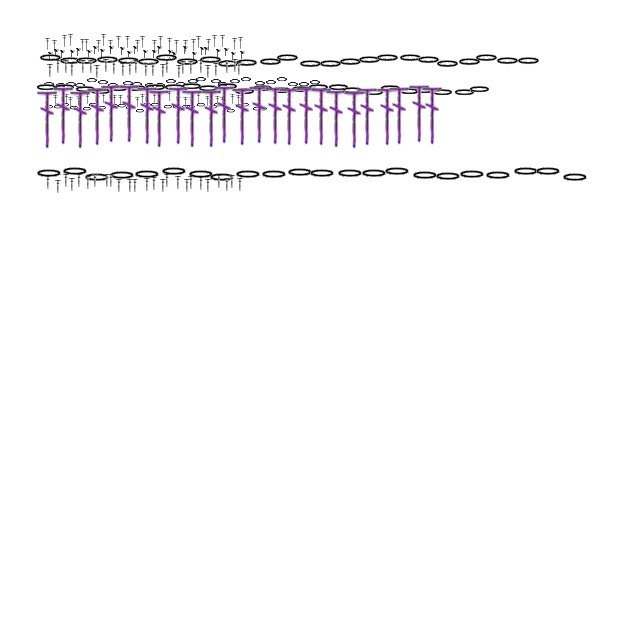chain: (35, 168, 63, 180), (61, 166, 89, 178), (83, 172, 111, 184), (108, 170, 136, 182), (160, 166, 188, 178), (208, 172, 236, 184), (308, 168, 336, 180), (336, 168, 364, 180), (360, 168, 388, 180), (383, 166, 411, 178), (411, 170, 439, 182), (484, 170, 512, 182), (512, 166, 540, 178), (534, 166, 562, 178), (561, 172, 589, 184), (133, 170, 161, 180), (187, 170, 215, 180), (234, 170, 262, 180), (260, 170, 288, 180), (286, 168, 314, 178), (434, 172, 462, 182), (458, 170, 486, 180), (38, 53, 64, 63), (58, 56, 84, 66), (74, 56, 100, 66), (116, 56, 142, 66), (136, 57, 162, 67), (154, 53, 180, 63), (198, 55, 224, 65), (216, 59, 242, 69), (234, 58, 260, 68), (258, 57, 284, 67), (298, 59, 324, 69), (318, 59, 344, 69), (338, 57, 364, 67), (398, 53, 424, 63), (416, 55, 442, 65), (474, 53, 500, 63), (516, 56, 542, 66), (96, 55, 120, 65), (176, 57, 200, 67), (276, 53, 300, 63), (358, 55, 382, 65), (376, 53, 400, 63), (436, 59, 460, 69), (458, 57, 482, 67), (496, 56, 520, 66), (180, 82, 204, 92), (216, 82, 240, 92), (270, 86, 294, 96), (362, 88, 386, 98), (108, 84, 130, 94), (126, 84, 148, 94), (198, 84, 220, 94), (252, 84, 274, 94), (342, 86, 364, 96), (380, 84, 402, 94), (414, 86, 436, 96), (432, 88, 454, 98), (454, 88, 476, 98), (74, 86, 98, 94), (144, 84, 168, 92), (290, 86, 314, 94), (398, 88, 422, 96), (468, 86, 492, 94), (36, 84, 58, 92), (54, 84, 76, 92), (90, 88, 112, 96), (164, 84, 186, 92), (234, 88, 256, 96), (308, 84, 330, 92), (328, 84, 350, 92), (43, 80, 55, 88), (55, 81, 67, 89), (65, 80, 77, 88), (74, 81, 86, 89), (86, 76, 98, 84), (97, 78, 109, 86), (107, 81, 119, 89), (122, 79, 134, 87), (131, 80, 143, 88), (144, 81, 156, 89), (154, 81, 166, 89), (165, 77, 177, 85), (175, 80, 187, 88), (187, 77, 199, 85), (195, 75, 207, 83), (210, 77, 222, 85), (217, 80, 229, 88), (229, 77, 241, 85), (240, 75, 252, 83), (254, 79, 266, 87), (265, 78, 277, 86), (276, 75, 288, 83), (287, 80, 299, 88), (298, 80, 310, 88), (309, 78, 321, 86), (69, 104, 79, 112), (97, 104, 107, 112), (109, 102, 119, 110), (117, 102, 127, 110), (125, 104, 135, 112), (235, 102, 245, 110), (44, 104, 54, 110), (53, 104, 63, 110), (60, 102, 70, 108), (82, 106, 92, 112), (88, 102, 98, 108), (135, 108, 145, 114), (142, 102, 152, 108), (150, 102, 160, 108), (163, 104, 173, 110), (172, 104, 182, 110), (181, 104, 191, 110), (186, 104, 196, 110), (196, 102, 206, 108), (208, 104, 218, 110), (213, 102, 223, 108), (226, 108, 236, 114), (240, 102, 250, 108), (252, 106, 262, 112), (258, 106, 268, 112)
double treble: (37, 88, 57, 150), (53, 84, 73, 146), (70, 88, 90, 150), (101, 82, 121, 144), (119, 82, 139, 144), (137, 84, 157, 146), (168, 84, 188, 146), (265, 84, 285, 146), (296, 84, 316, 146), (344, 88, 364, 150), (389, 84, 409, 146), (409, 82, 429, 144), (422, 84, 442, 146), (87, 86, 107, 146), (149, 88, 169, 148), (182, 88, 202, 148), (201, 88, 221, 148), (214, 84, 234, 144), (232, 86, 252, 146), (249, 84, 269, 144), (279, 86, 299, 146), (311, 86, 331, 146), (326, 88, 346, 148), (357, 86, 377, 146), (377, 86, 397, 146), (47, 64, 53, 78), (55, 60, 61, 74), (63, 60, 69, 74), (80, 60, 86, 74), (88, 60, 94, 74), (127, 62, 133, 76), (133, 60, 139, 74), (160, 64, 166, 78), (164, 60, 170, 74), (198, 60, 204, 74), (224, 60, 230, 74), (236, 62, 242, 76), (45, 176, 51, 190), (55, 180, 61, 194), (63, 174, 69, 188), (69, 178, 75, 192), (76, 174, 82, 188), (85, 176, 91, 190), (92, 174, 98, 188), (104, 174, 110, 188), (108, 174, 114, 188), (144, 178, 150, 192), (164, 174, 170, 188), (175, 176, 181, 190), (188, 176, 194, 190), (224, 178, 230, 192), (237, 178, 243, 192), (52, 40, 58, 52), (62, 35, 68, 47), (68, 34, 74, 46), (80, 39, 86, 51), (84, 39, 90, 51), (96, 40, 102, 52), (108, 40, 114, 52), (116, 36, 122, 48), (140, 36, 146, 48), (152, 40, 158, 52), (158, 36, 164, 48), (174, 40, 180, 52), (196, 36, 202, 48), (206, 39, 212, 51), (212, 35, 218, 47), (220, 35, 226, 47), (232, 38, 238, 50), (238, 37, 244, 49), (69, 64, 75, 76), (94, 66, 100, 78), (103, 60, 109, 72), (111, 62, 117, 74), (120, 64, 126, 76), (143, 64, 149, 76), (150, 64, 156, 76), (176, 66, 182, 78), (180, 62, 186, 74), (188, 62, 194, 74), (205, 66, 211, 78), (213, 64, 219, 76), (232, 60, 238, 72), (116, 180, 122, 192), (127, 180, 133, 192), (132, 180, 138, 192), (151, 178, 157, 190), (160, 180, 166, 192), (184, 180, 190, 192), (198, 178, 204, 190), (205, 180, 211, 192), (216, 176, 222, 188), (229, 176, 235, 188), (44, 93, 50, 103), (64, 94, 70, 104), (68, 97, 74, 107), (76, 96, 82, 106), (112, 95, 118, 105), (118, 95, 124, 105), (140, 94, 146, 104), (152, 93, 158, 103), (156, 93, 162, 103), (176, 97, 182, 107), (196, 93, 202, 103), (220, 97, 226, 107), (230, 94, 236, 104), (236, 95, 242, 105), (46, 38, 50, 50), (102, 34, 106, 46), (126, 36, 130, 48), (136, 40, 140, 52), (168, 38, 172, 50), (184, 40, 188, 52), (192, 39, 196, 51), (48, 52, 54, 60), (54, 49, 60, 57), (60, 50, 66, 58), (70, 50, 76, 58), (76, 48, 82, 56), (100, 49, 106, 57), (120, 47, 126, 55), (152, 50, 158, 58), (168, 50, 174, 58), (172, 52, 178, 60), (192, 52, 198, 60), (200, 47, 206, 55), (204, 47, 210, 55), (216, 49, 222, 57), (224, 48, 230, 56), (240, 51, 246, 59), (54, 95, 58, 105), (86, 94, 90, 104), (96, 96, 100, 106), (102, 93, 106, 103), (128, 96, 132, 106), (136, 97, 140, 107), (168, 91, 172, 101), (184, 97, 188, 107), (190, 97, 194, 107), (206, 96, 210, 106), (216, 96, 220, 106), (88, 50, 92, 58), (94, 46, 98, 54), (110, 46, 114, 54), (128, 51, 132, 59), (134, 46, 138, 54), (144, 50, 148, 58), (158, 46, 162, 54), (184, 46, 188, 54), (232, 52, 236, 60)
